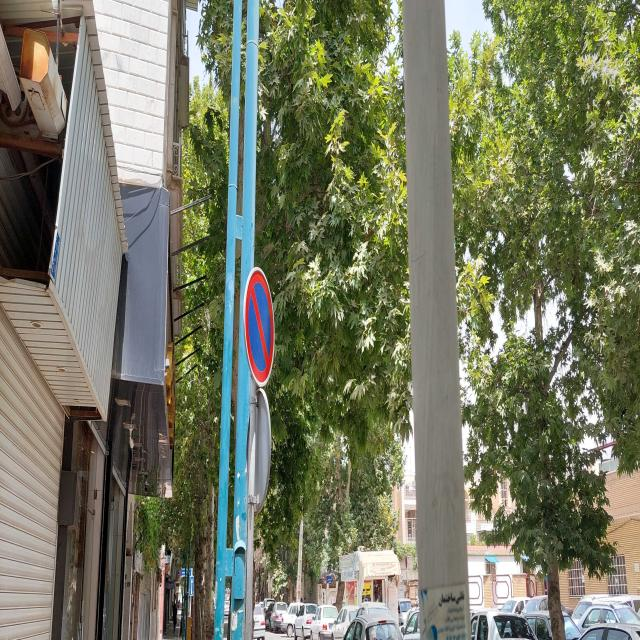forb_stopping: (243, 265, 275, 385)
